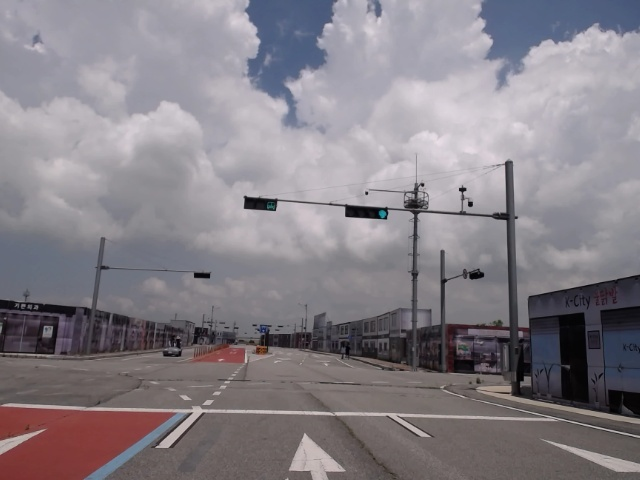straight_green_4: (344, 205, 390, 221)
